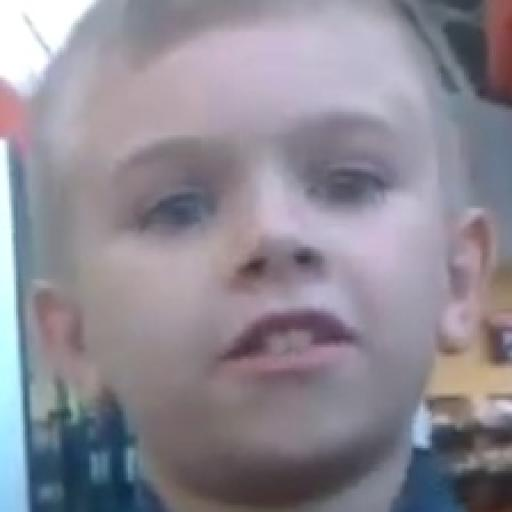Autism: (31, 10, 512, 469)
